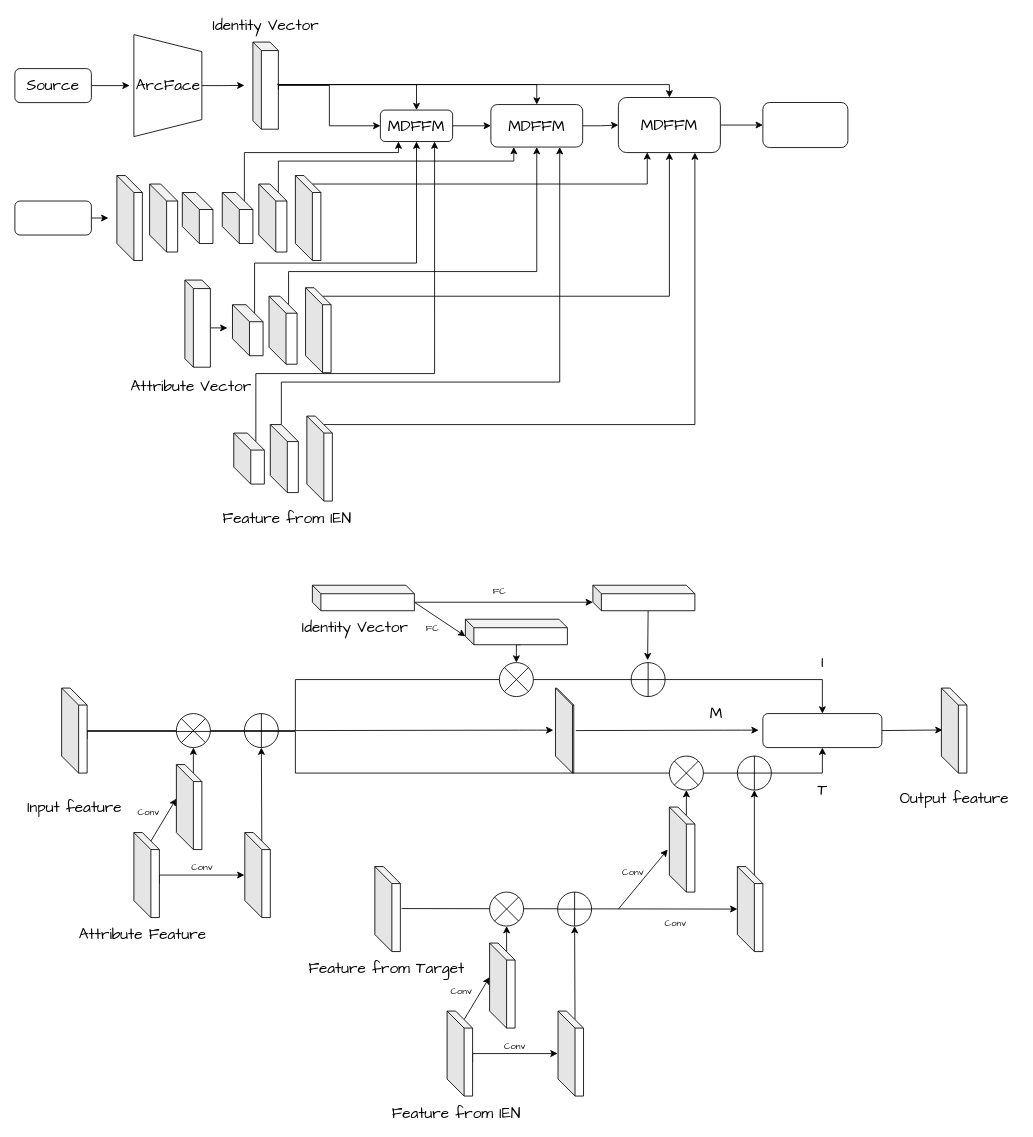
Image size: 1033x1137. Some labels were removed from this diagram. Each missing label, with the centre of its shape:
M x I + (1 - M) x T: (x=822, y=730)
Swapping Image: (x=805, y=125)
Target: (x=52, y=217)
